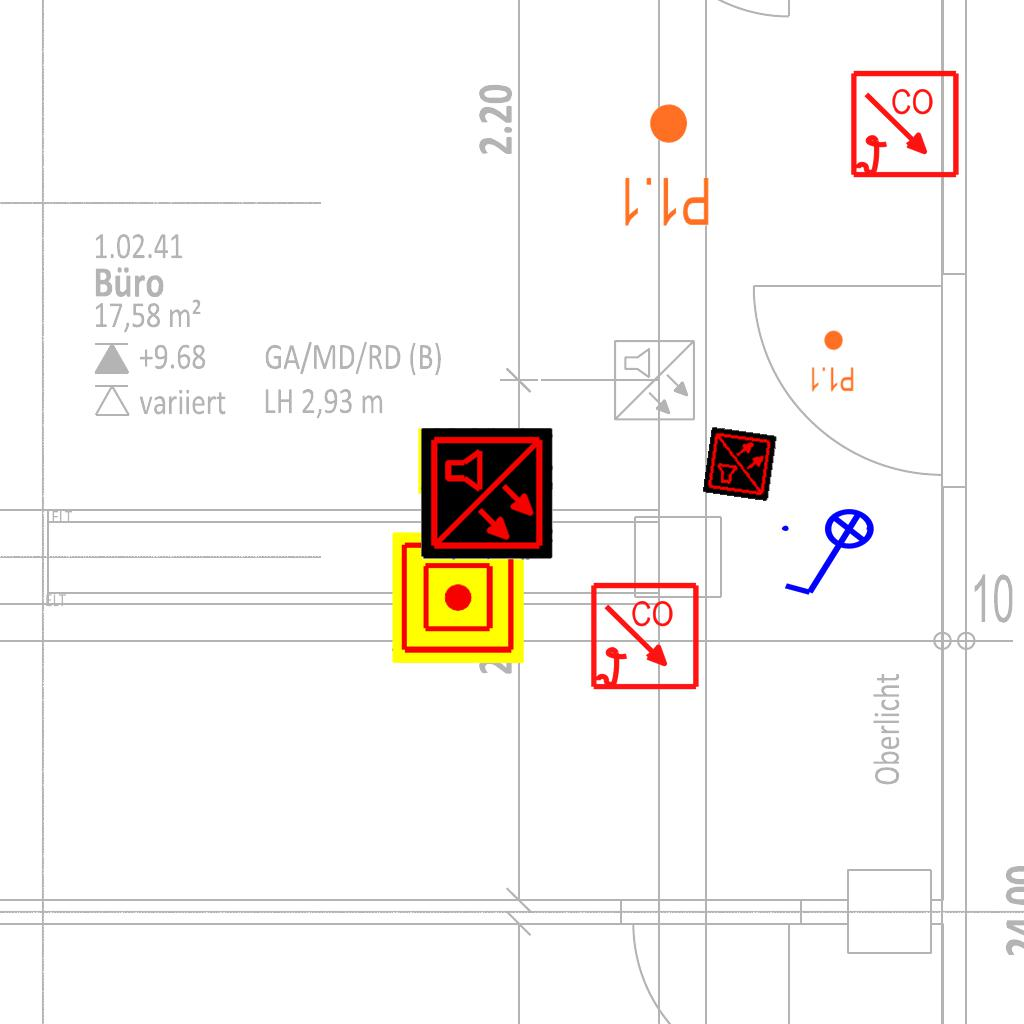Ausschalter_beleuchtet: (776, 507, 888, 603)
Downlight_LED_Einbauleuchten_Flur: (619, 101, 712, 229), (809, 329, 855, 393)
NAM-Nichtautomatischer_Melder: (392, 532, 524, 664), (418, 428, 484, 494)
OKW_Multisensormelder_(Kombination_optischer_Rauch-Kahlenmonoxid_Waerme-Melder): (421, 428, 553, 560), (702, 426, 778, 502)
ROA_Rauchmelder_optisch_mit_Signalgeber_(Sockelsirene): (589, 581, 702, 694), (849, 69, 962, 182)
